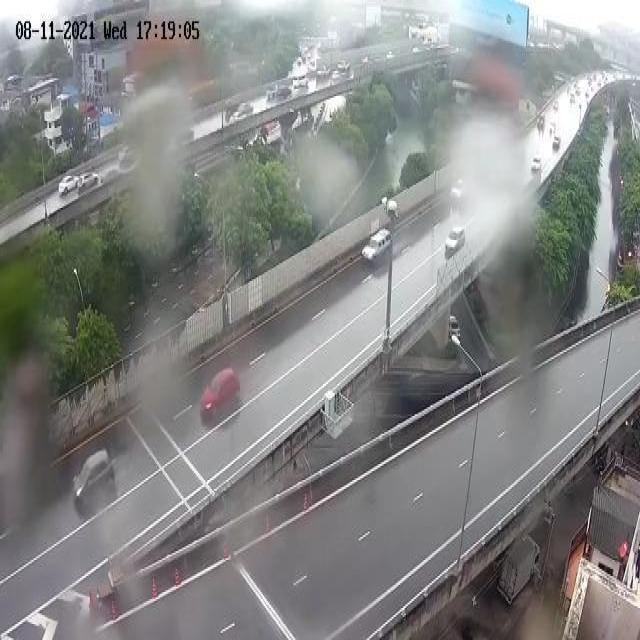Car: (70, 441, 116, 513), (198, 363, 242, 433), (361, 226, 390, 266), (446, 216, 466, 258)
